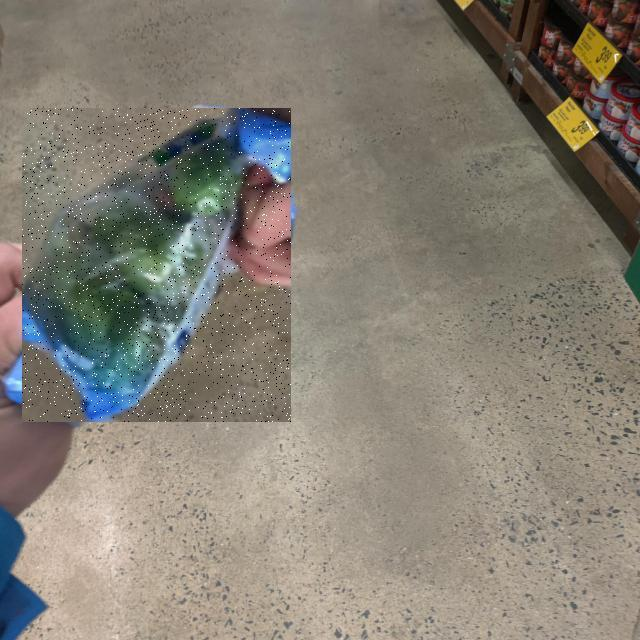Brussel Sprouts: (22, 109, 291, 423)
